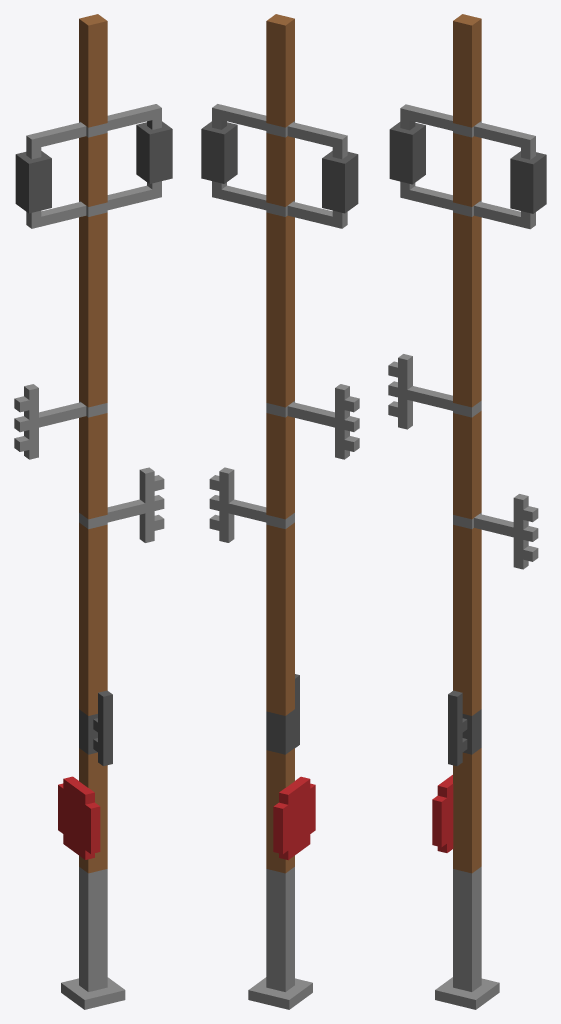
The model's file is Electricity_pole.FBX.
3 views of the same model, side by side, from view 1: azimuth 30°, elevation 25°; view 2: azimuth 150°, elevation 25°; view 3: azimuth 330°, elevation 25° (orthographic).
Visible parts, largest first — view 1: Electricity_pole; view 2: Electricity_pole; view 3: Electricity_pole.
Part boxes in pixels (x1,y1,x2,y2): Electricity_pole: (14, 14, 172, 1009); Electricity_pole: (201, 14, 359, 1009); Electricity_pole: (388, 14, 546, 1009).
Bounding box in the file's own units: 31.34 × 197 × 12.
Materials: 1 (1 with a texture image).
